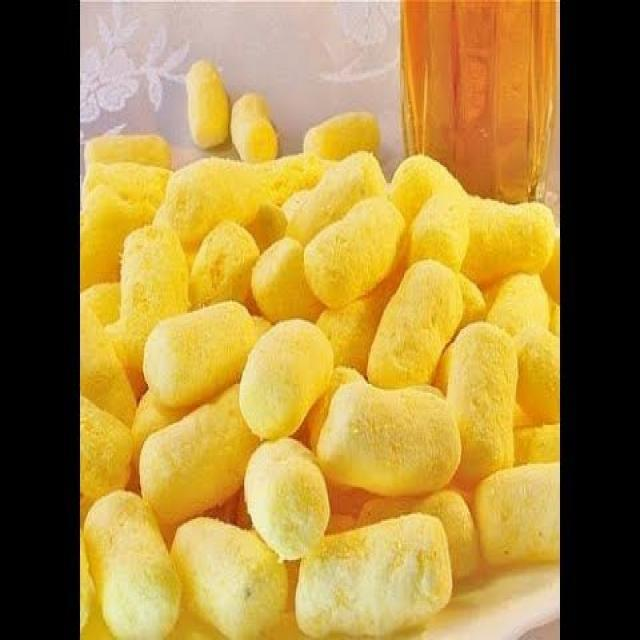Chips packaged: (288, 509, 458, 637), (325, 383, 463, 486), (139, 295, 271, 398), (302, 190, 414, 311), (372, 256, 462, 404), (236, 316, 336, 440), (443, 322, 519, 478), (241, 438, 339, 557)
